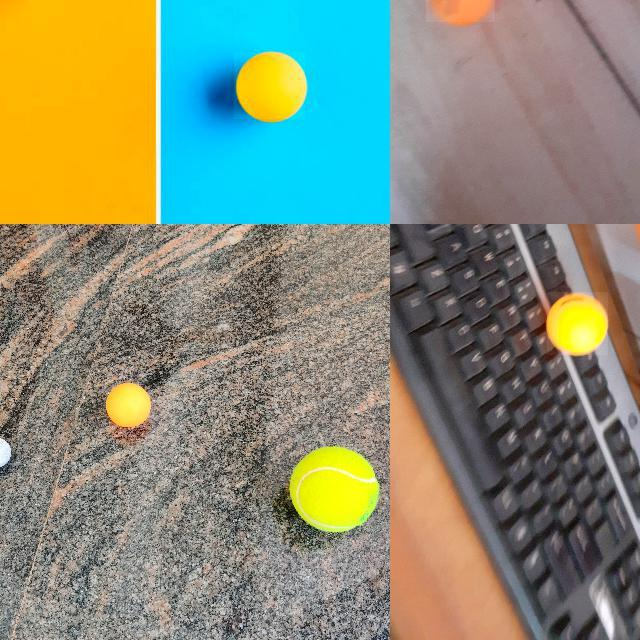ping-pong-ball: (234, 52, 306, 120), (547, 292, 609, 356), (105, 382, 151, 428), (425, 0, 497, 24)
